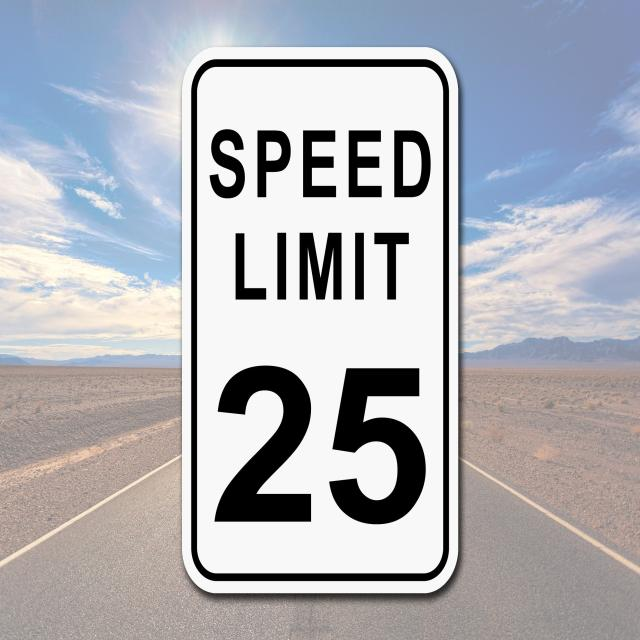speedLimit25: (170, 44, 462, 604)
